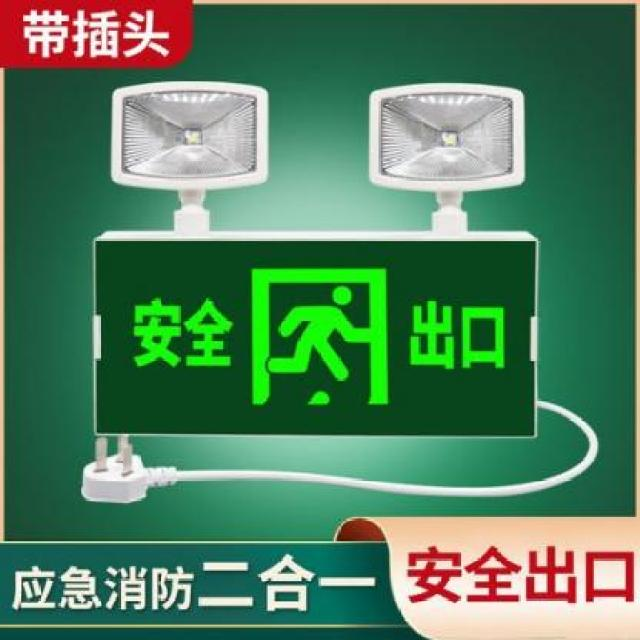exit_sign: (108, 234, 537, 431)
